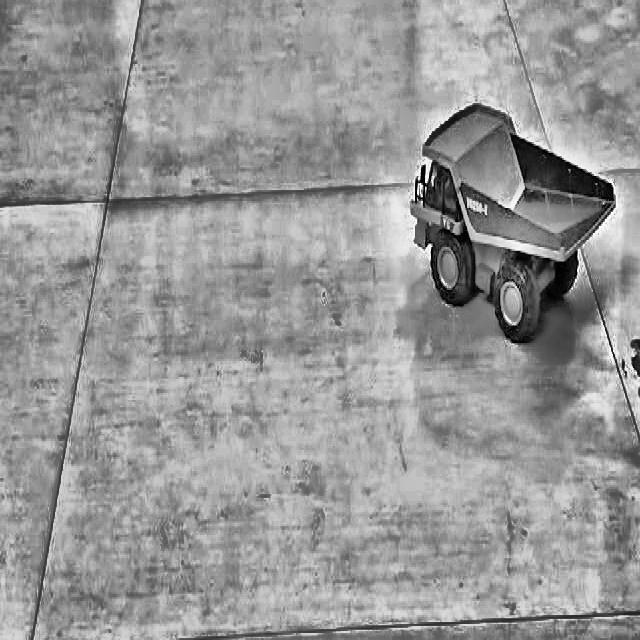dump_truck: (402, 91, 619, 342)
